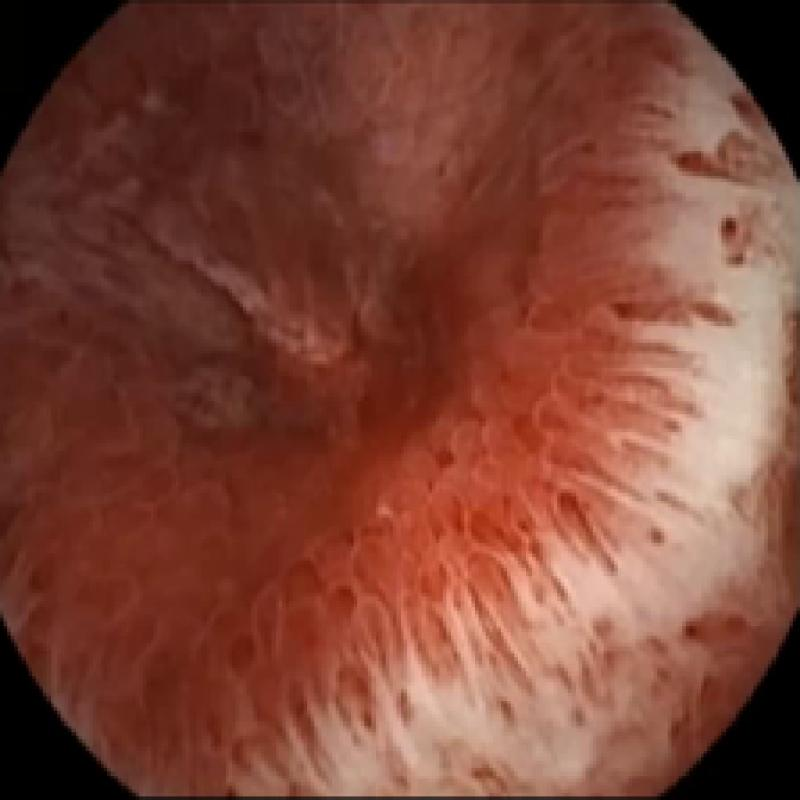bleeding: (0, 0, 675, 800), (693, 313, 800, 755), (689, 82, 778, 181)
